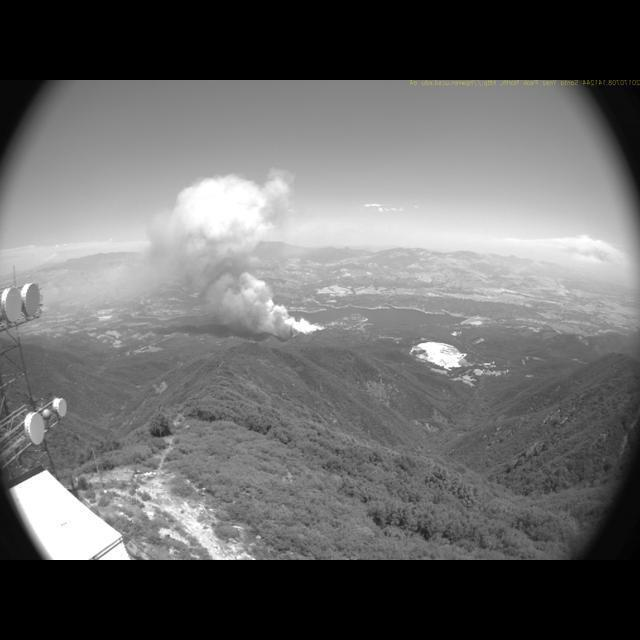Smoke: (142, 162, 326, 341)
